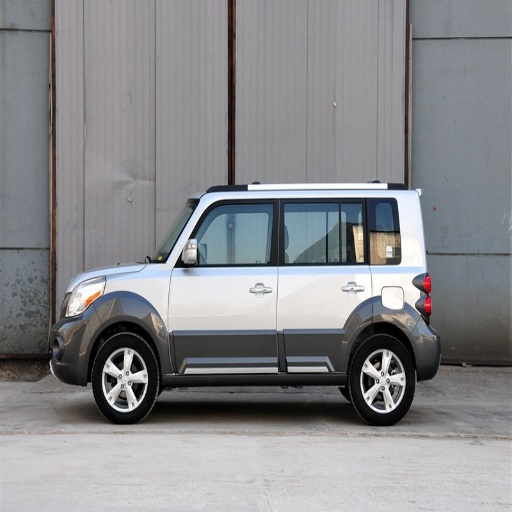back_left_door: (280, 198, 371, 370)
front_left_door: (169, 199, 282, 370)
